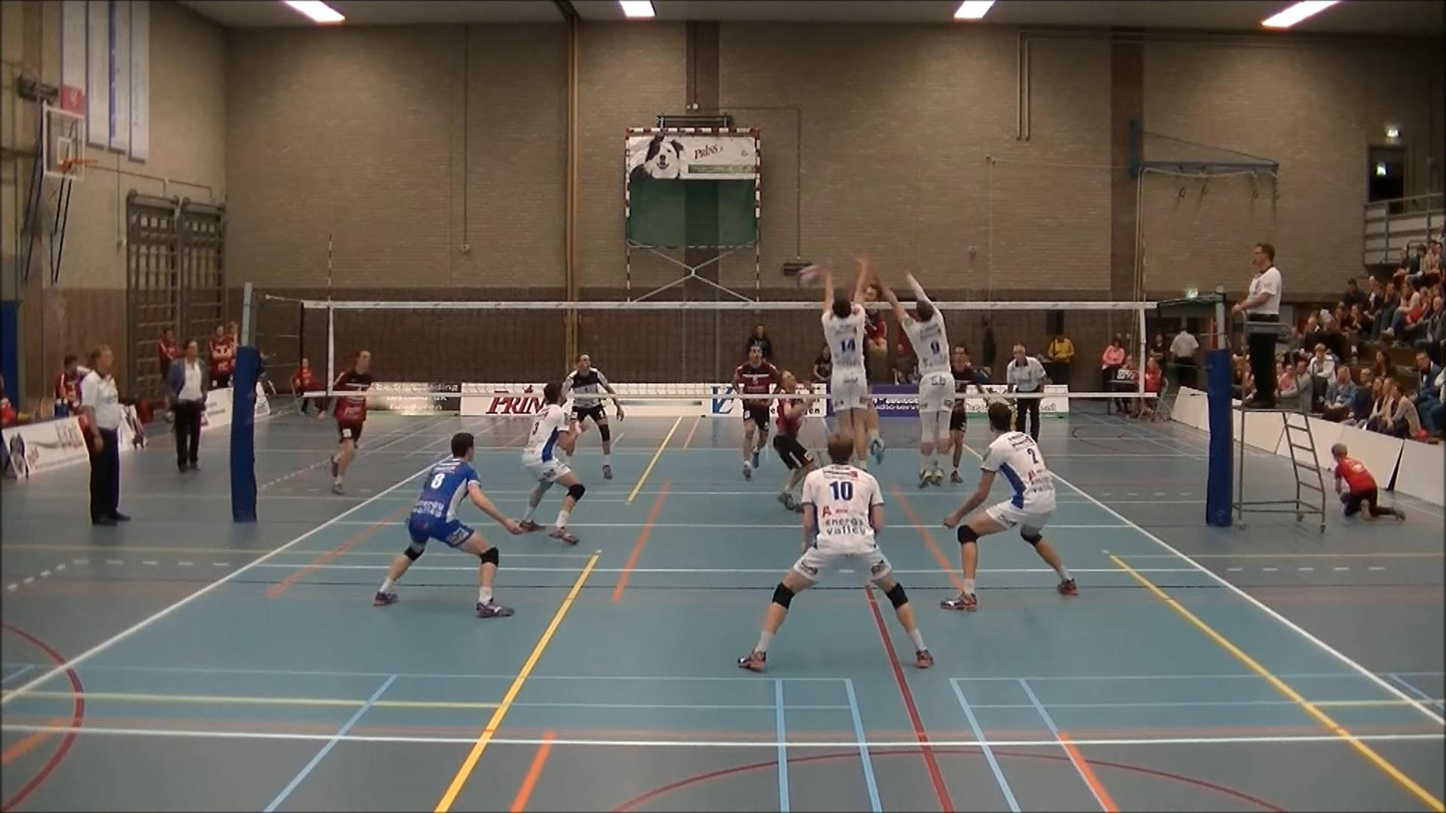muro: (874, 262, 964, 492), (815, 255, 874, 465)
